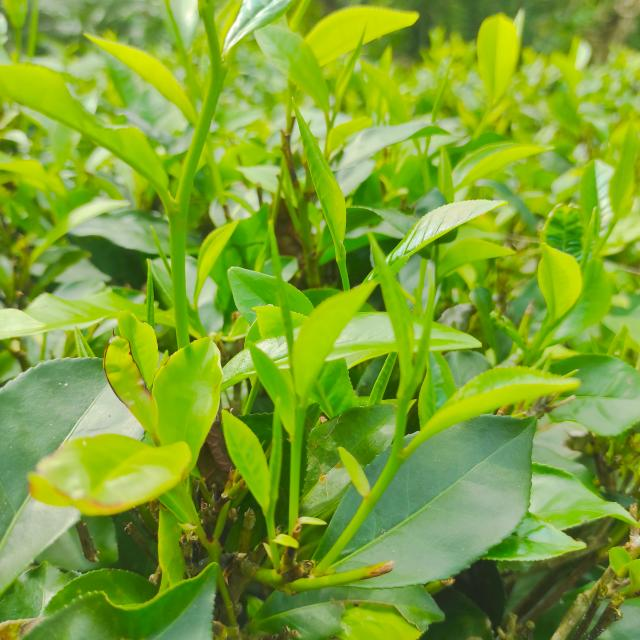unopened_leaf: (401, 266, 444, 408), (266, 213, 302, 381), (422, 49, 466, 166), (259, 388, 292, 527), (325, 26, 371, 122), (577, 200, 603, 280)
